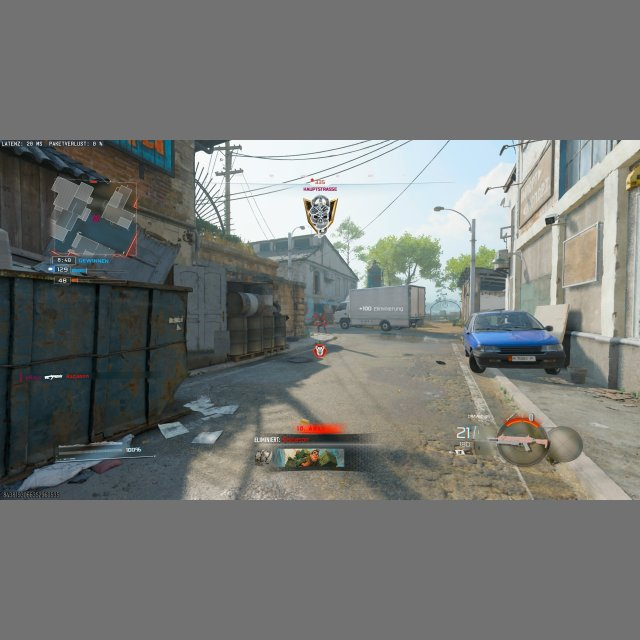player: (315, 312, 327, 333)
